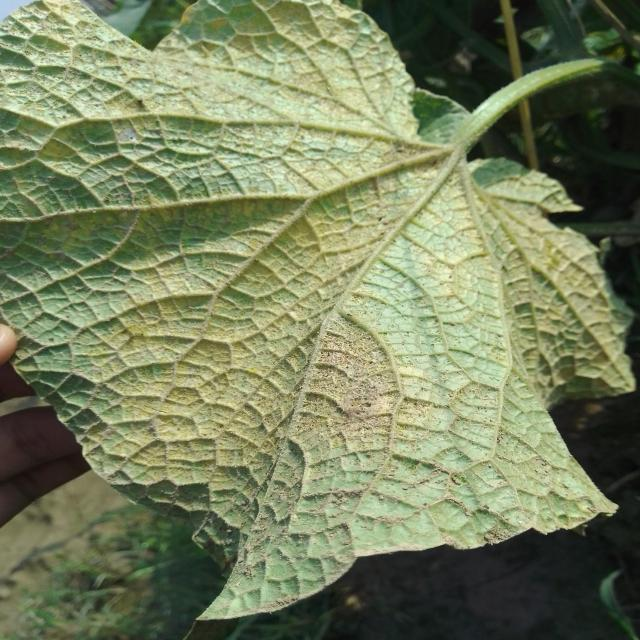cucumber_downy: (8, 28, 615, 574)
